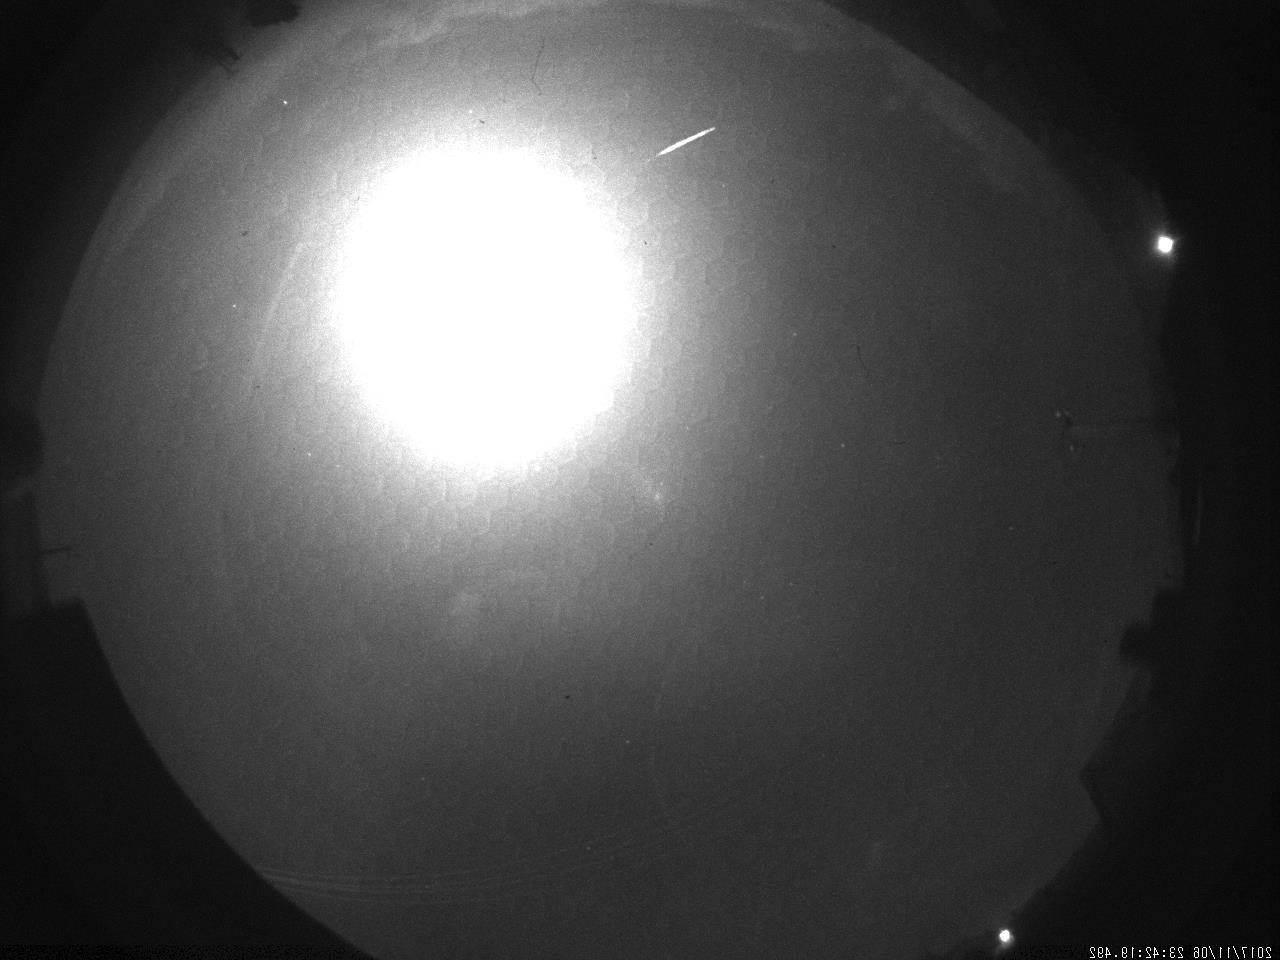meteor: (636, 122, 728, 171)
